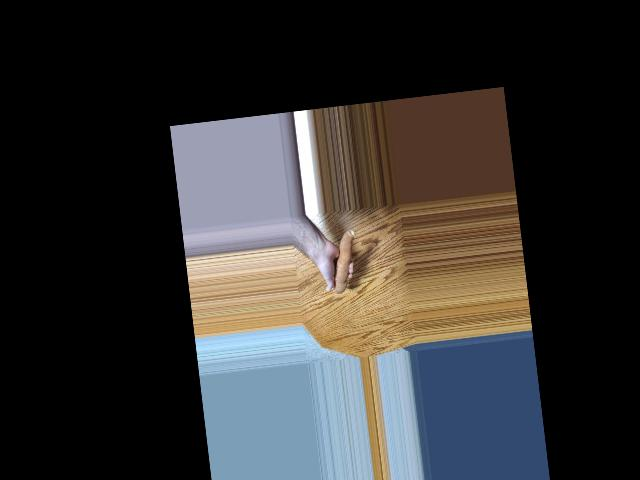sweet_potato: (328, 230, 351, 295)
